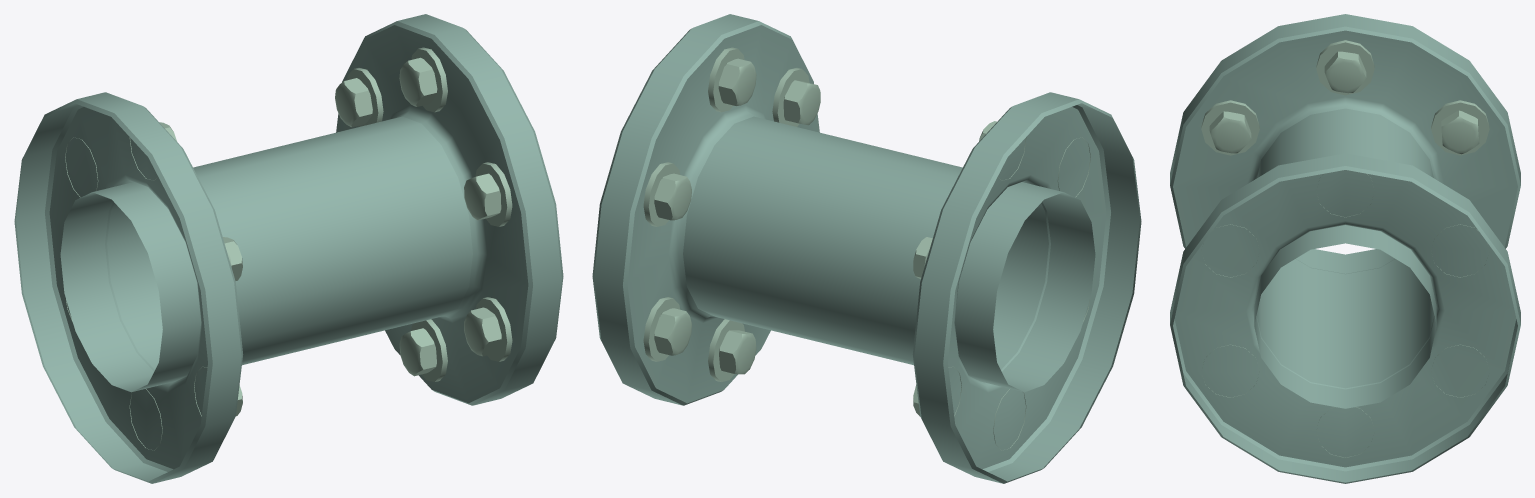
Rendered from PipeComplexLarge_A3_Short_2.fbx.
The picture shows the model from 3 angles, left to right: view 1: azimuth 30°, elevation 25°; view 2: azimuth 150°, elevation 25°; view 3: azimuth 270°, elevation 25°; orthographic projection. The views are drawn at different scales.
Visible parts, largest first — view 1: PipeComplexLarge_A3_Short_2.001; view 2: PipeComplexLarge_A3_Short_2.001; view 3: PipeComplexLarge_A3_Short_2.001.
Part boxes in pixels (x1,y1,x2,y2): PipeComplexLarge_A3_Short_2.001: (14, 14, 563, 483); PipeComplexLarge_A3_Short_2.001: (592, 14, 1141, 483); PipeComplexLarge_A3_Short_2.001: (1170, 14, 1520, 483).
Size of the model in its own units: 0.4009 by 0.3846 by 0.3846.
